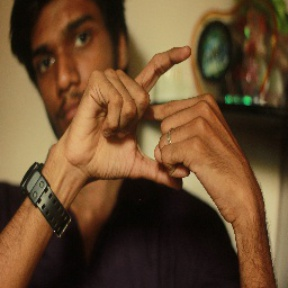E: (130, 41, 203, 190)
